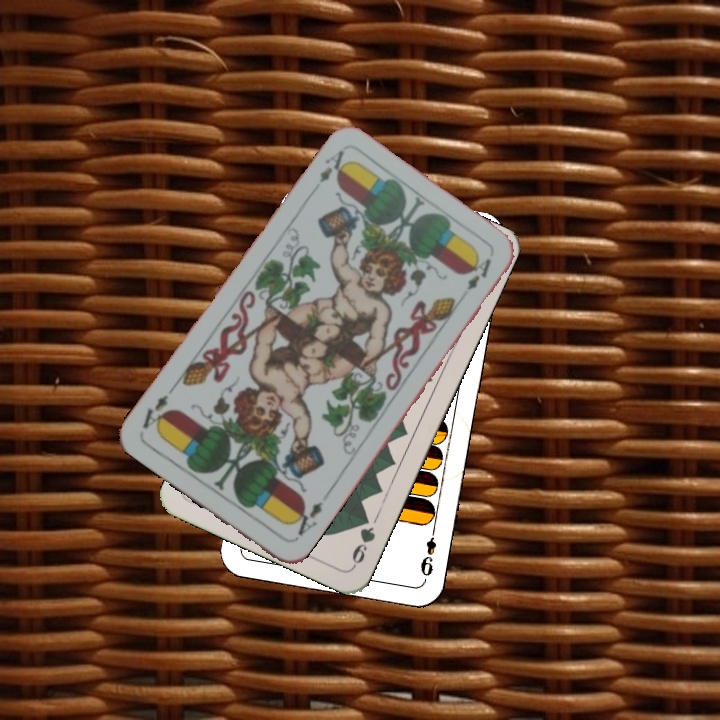E9: (416, 523, 439, 582)
EA: (286, 497, 326, 539), (315, 145, 351, 186)
G9: (348, 510, 378, 570)
